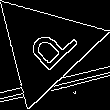P_SW: (14, 16, 78, 78)
